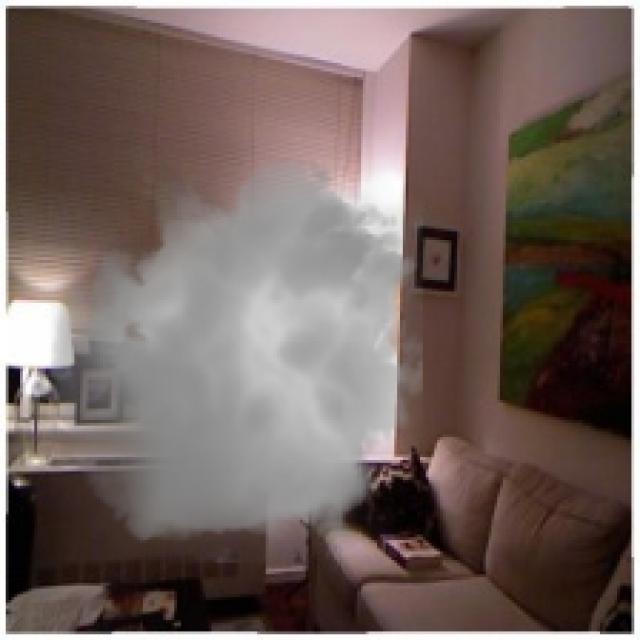Smoke: (37, 143, 440, 563)
